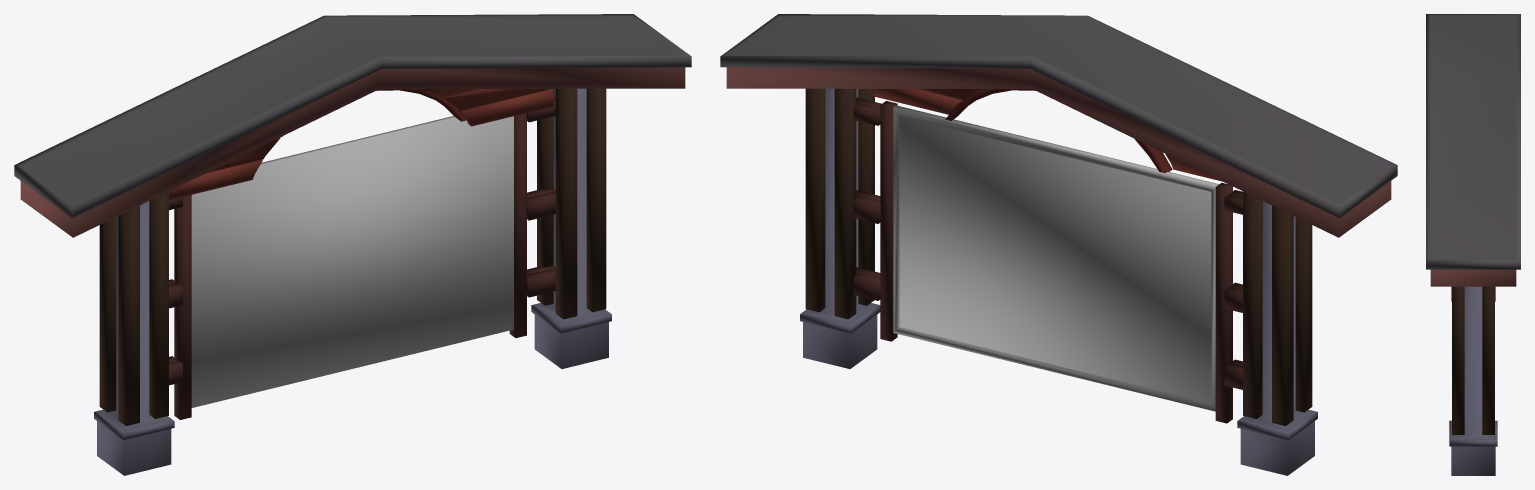
Rendered from Questboards.fbx.
The picture shows the model from 3 angles, left to right: view 1: azimuth 30°, elevation 25°; view 2: azimuth 150°, elevation 25°; view 3: azimuth 270°, elevation 25°; orthographic projection. The views are drawn at different scales.
Parts seen in each view (by area): view 1: Cube.011; view 2: Cube.011; view 3: Cube.011.
Part boxes in pixels (x1,y1,x2,y2): Cube.011: [14, 14, 691, 475]; Cube.011: [720, 14, 1397, 475]; Cube.011: [1426, 14, 1520, 475].
Bounding box in the file's own units: 1.16 × 7.14 × 4.07.
